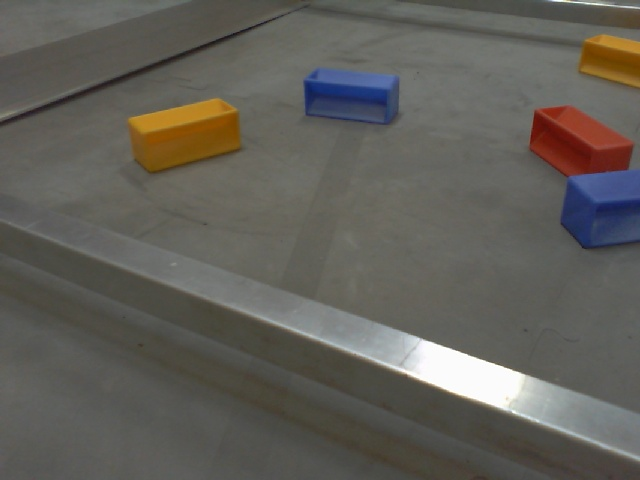BlueSample: (554, 164, 640, 250), (300, 66, 402, 128)
RedSample: (525, 102, 637, 178)
YellowSample: (121, 98, 249, 173), (575, 28, 640, 89)
